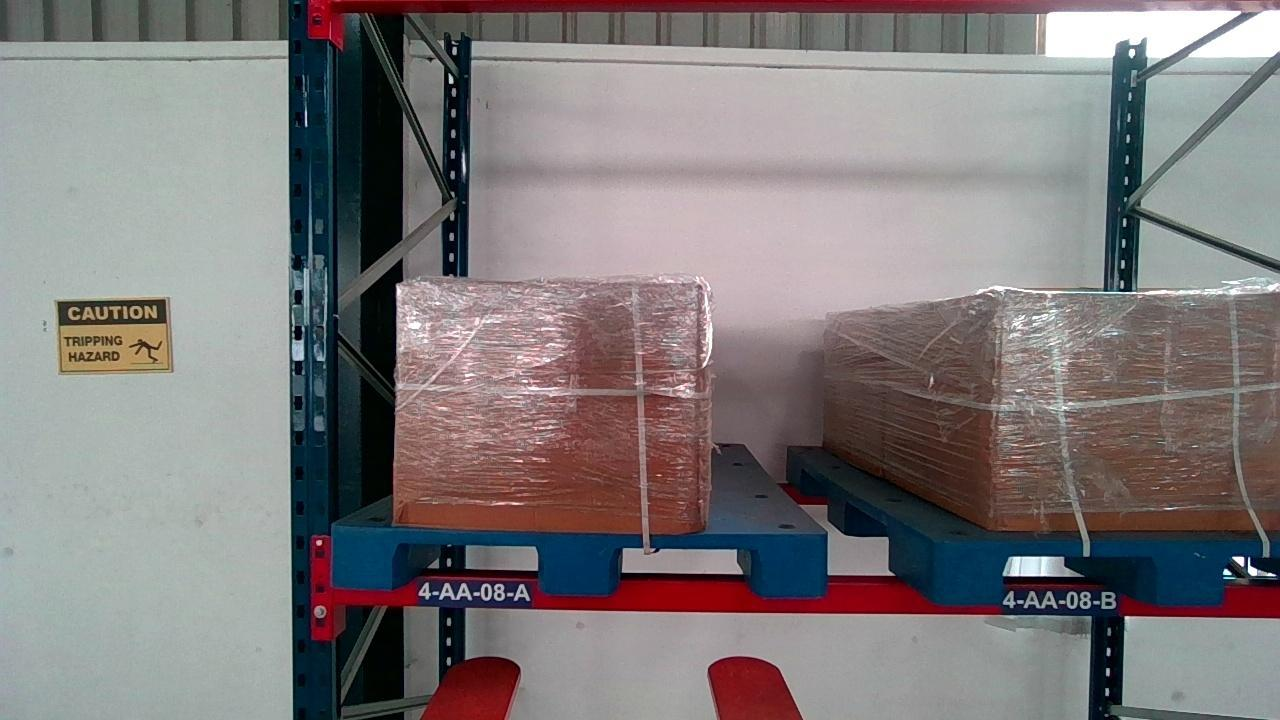h_rack: (334, 575, 1280, 617)
small_pallet: (327, 526, 826, 594), (946, 541, 1280, 607)
